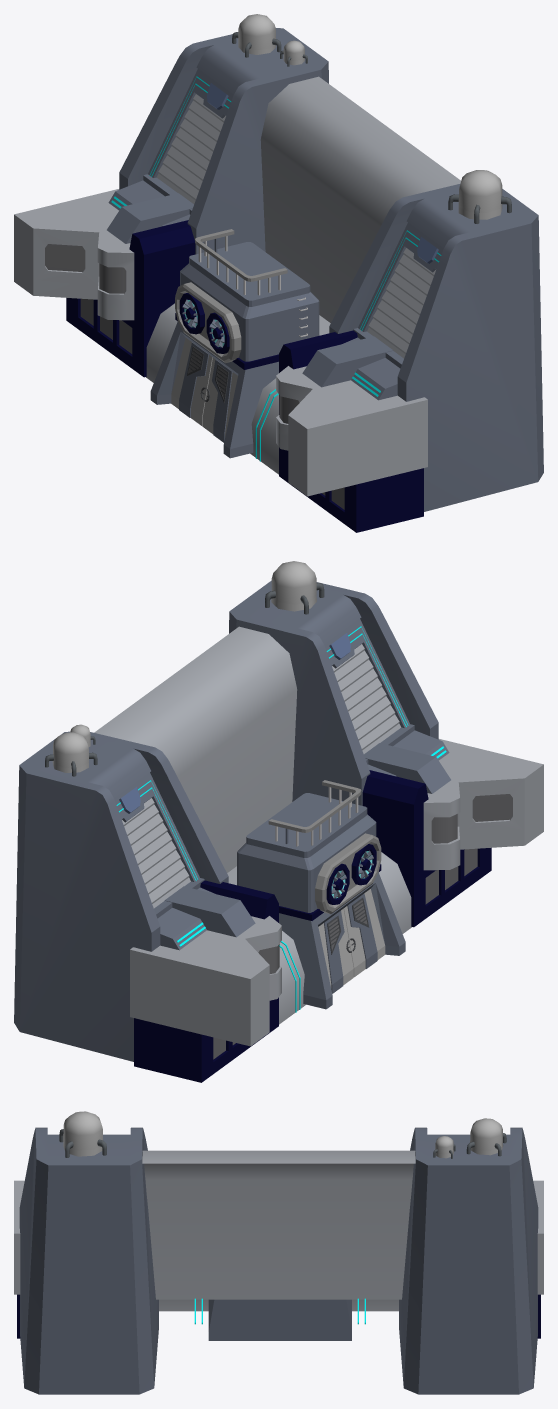
The model's file is Police_Building_01.fbx.
3 views of the same model, one above another, from view 1: azimuth 30°, elevation 25°; view 2: azimuth 150°, elevation 25°; view 3: azimuth 270°, elevation 25° (orthographic). The views are drawn at different scales.
Visible parts, largest first — view 1: Police_Building_01; view 2: Police_Building_01; view 3: Police_Building_01.
Part boxes in pixels (x1,y1,x2,y2): Police_Building_01: (14,14,543,532); Police_Building_01: (14,561,543,1082); Police_Building_01: (14,1111,543,1394).
Size of the model in its own units: 45.87 by 51.83 by 93.1.
